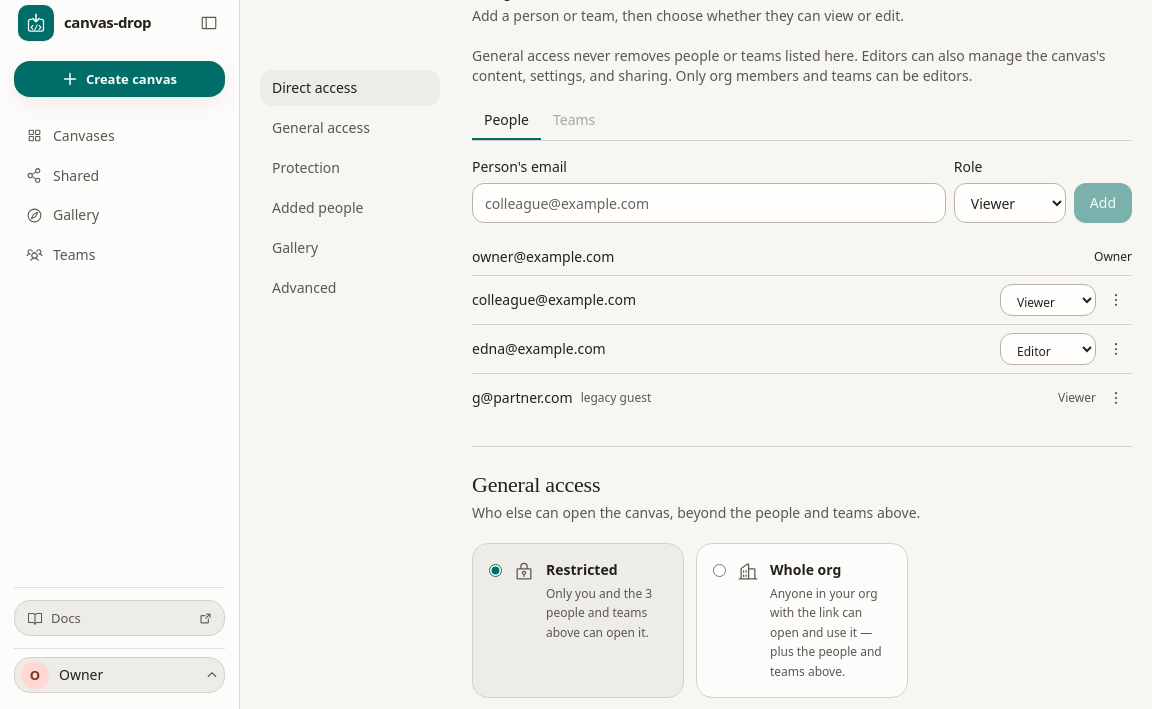
Test: share route — roles and ownership (editor-roles plan U6) › KTD11 / AE19: demoting an editor to viewer prompts too; confirming regenerates the key and reveals it once
The width and height of the screenshot is (1152, 709).
(page scrolled)
Expected: the list named "people and teams" is shown, [472,239,1132,422]
Select "Viewer" in the dropdown named "Role for edna@example.com": (1048, 349) [1000,333,1096,365]
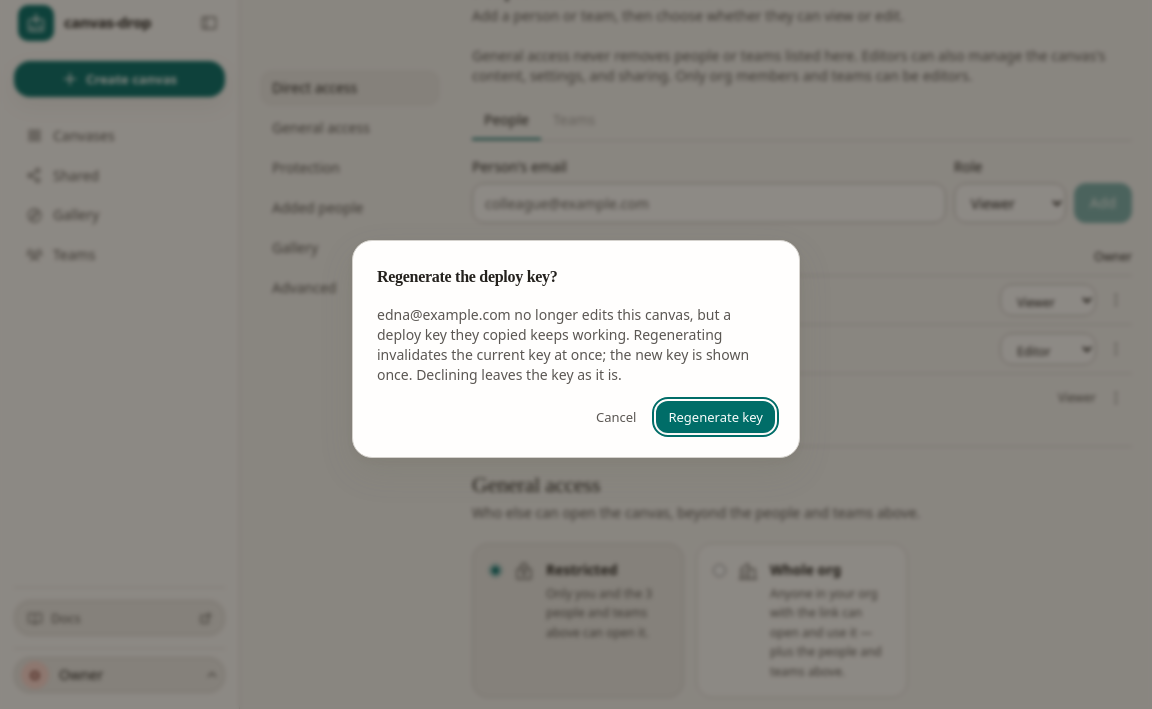
Click the button "Regenerate key": (716, 417) [656,401,775,433]
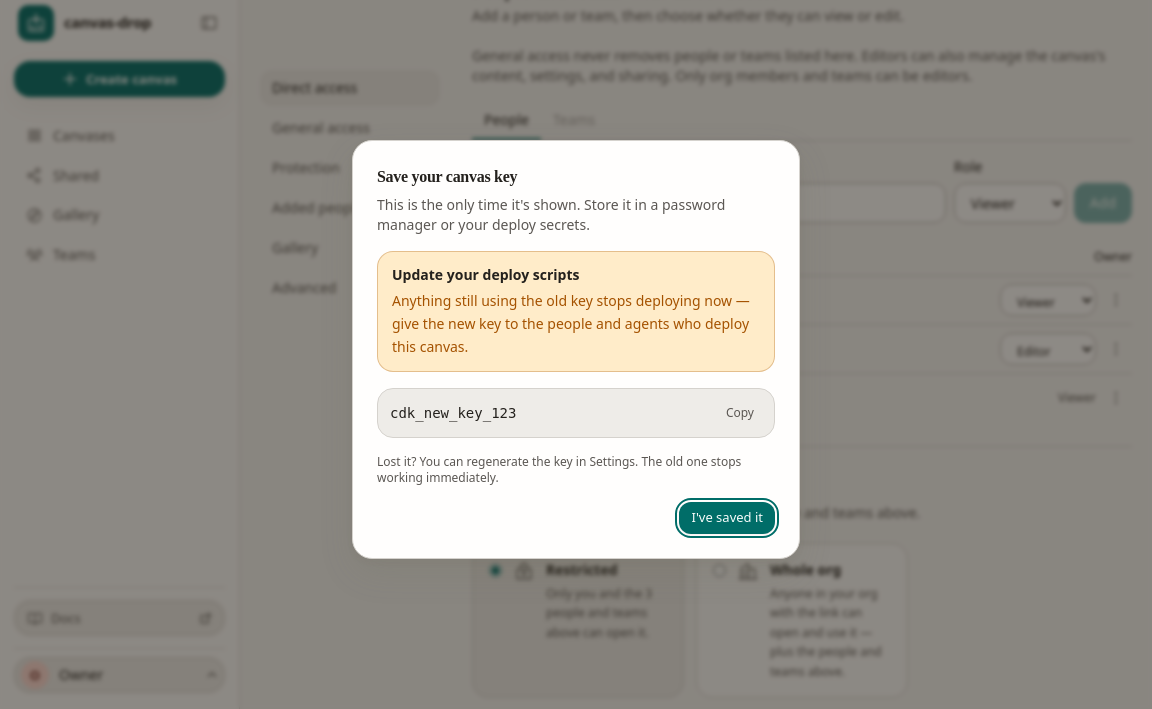
Now the text "cdk_new_key_123" is shown, box [390,404,516,420]
